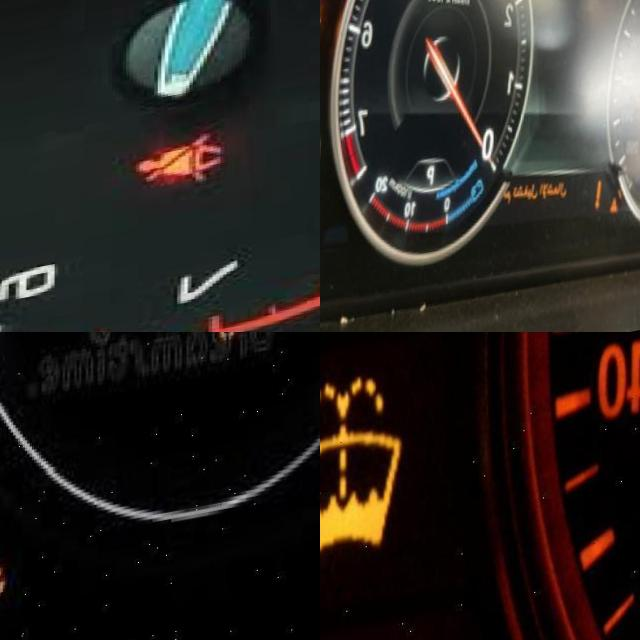Seat Belt: (139, 143, 226, 199), (211, 332, 244, 359)
Washer Fluid: (320, 379, 407, 575)
